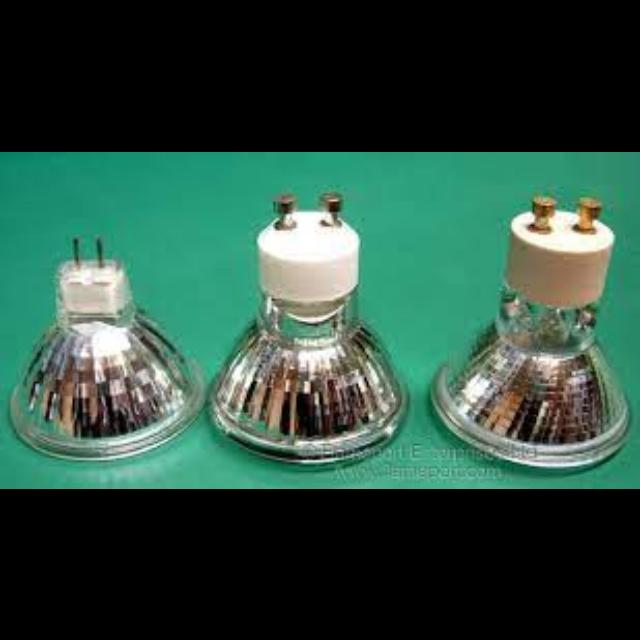light_bulb: (428, 182, 638, 468), (208, 193, 412, 469), (8, 232, 198, 454)
